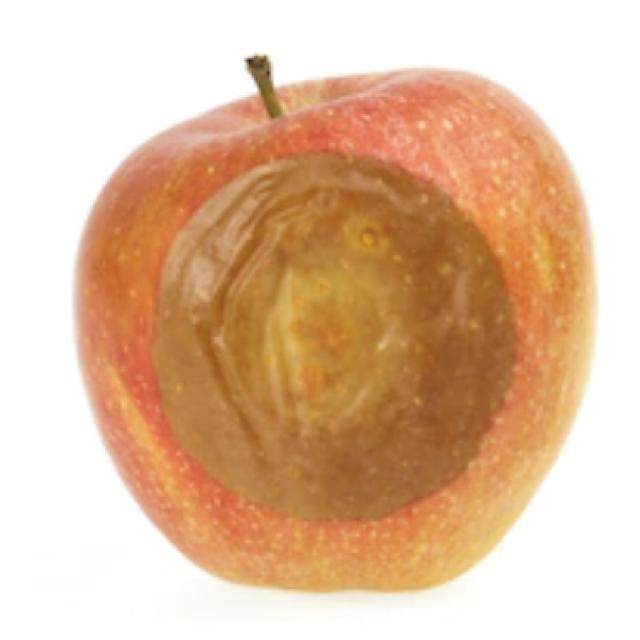Rotten: (113, 83, 590, 602)
